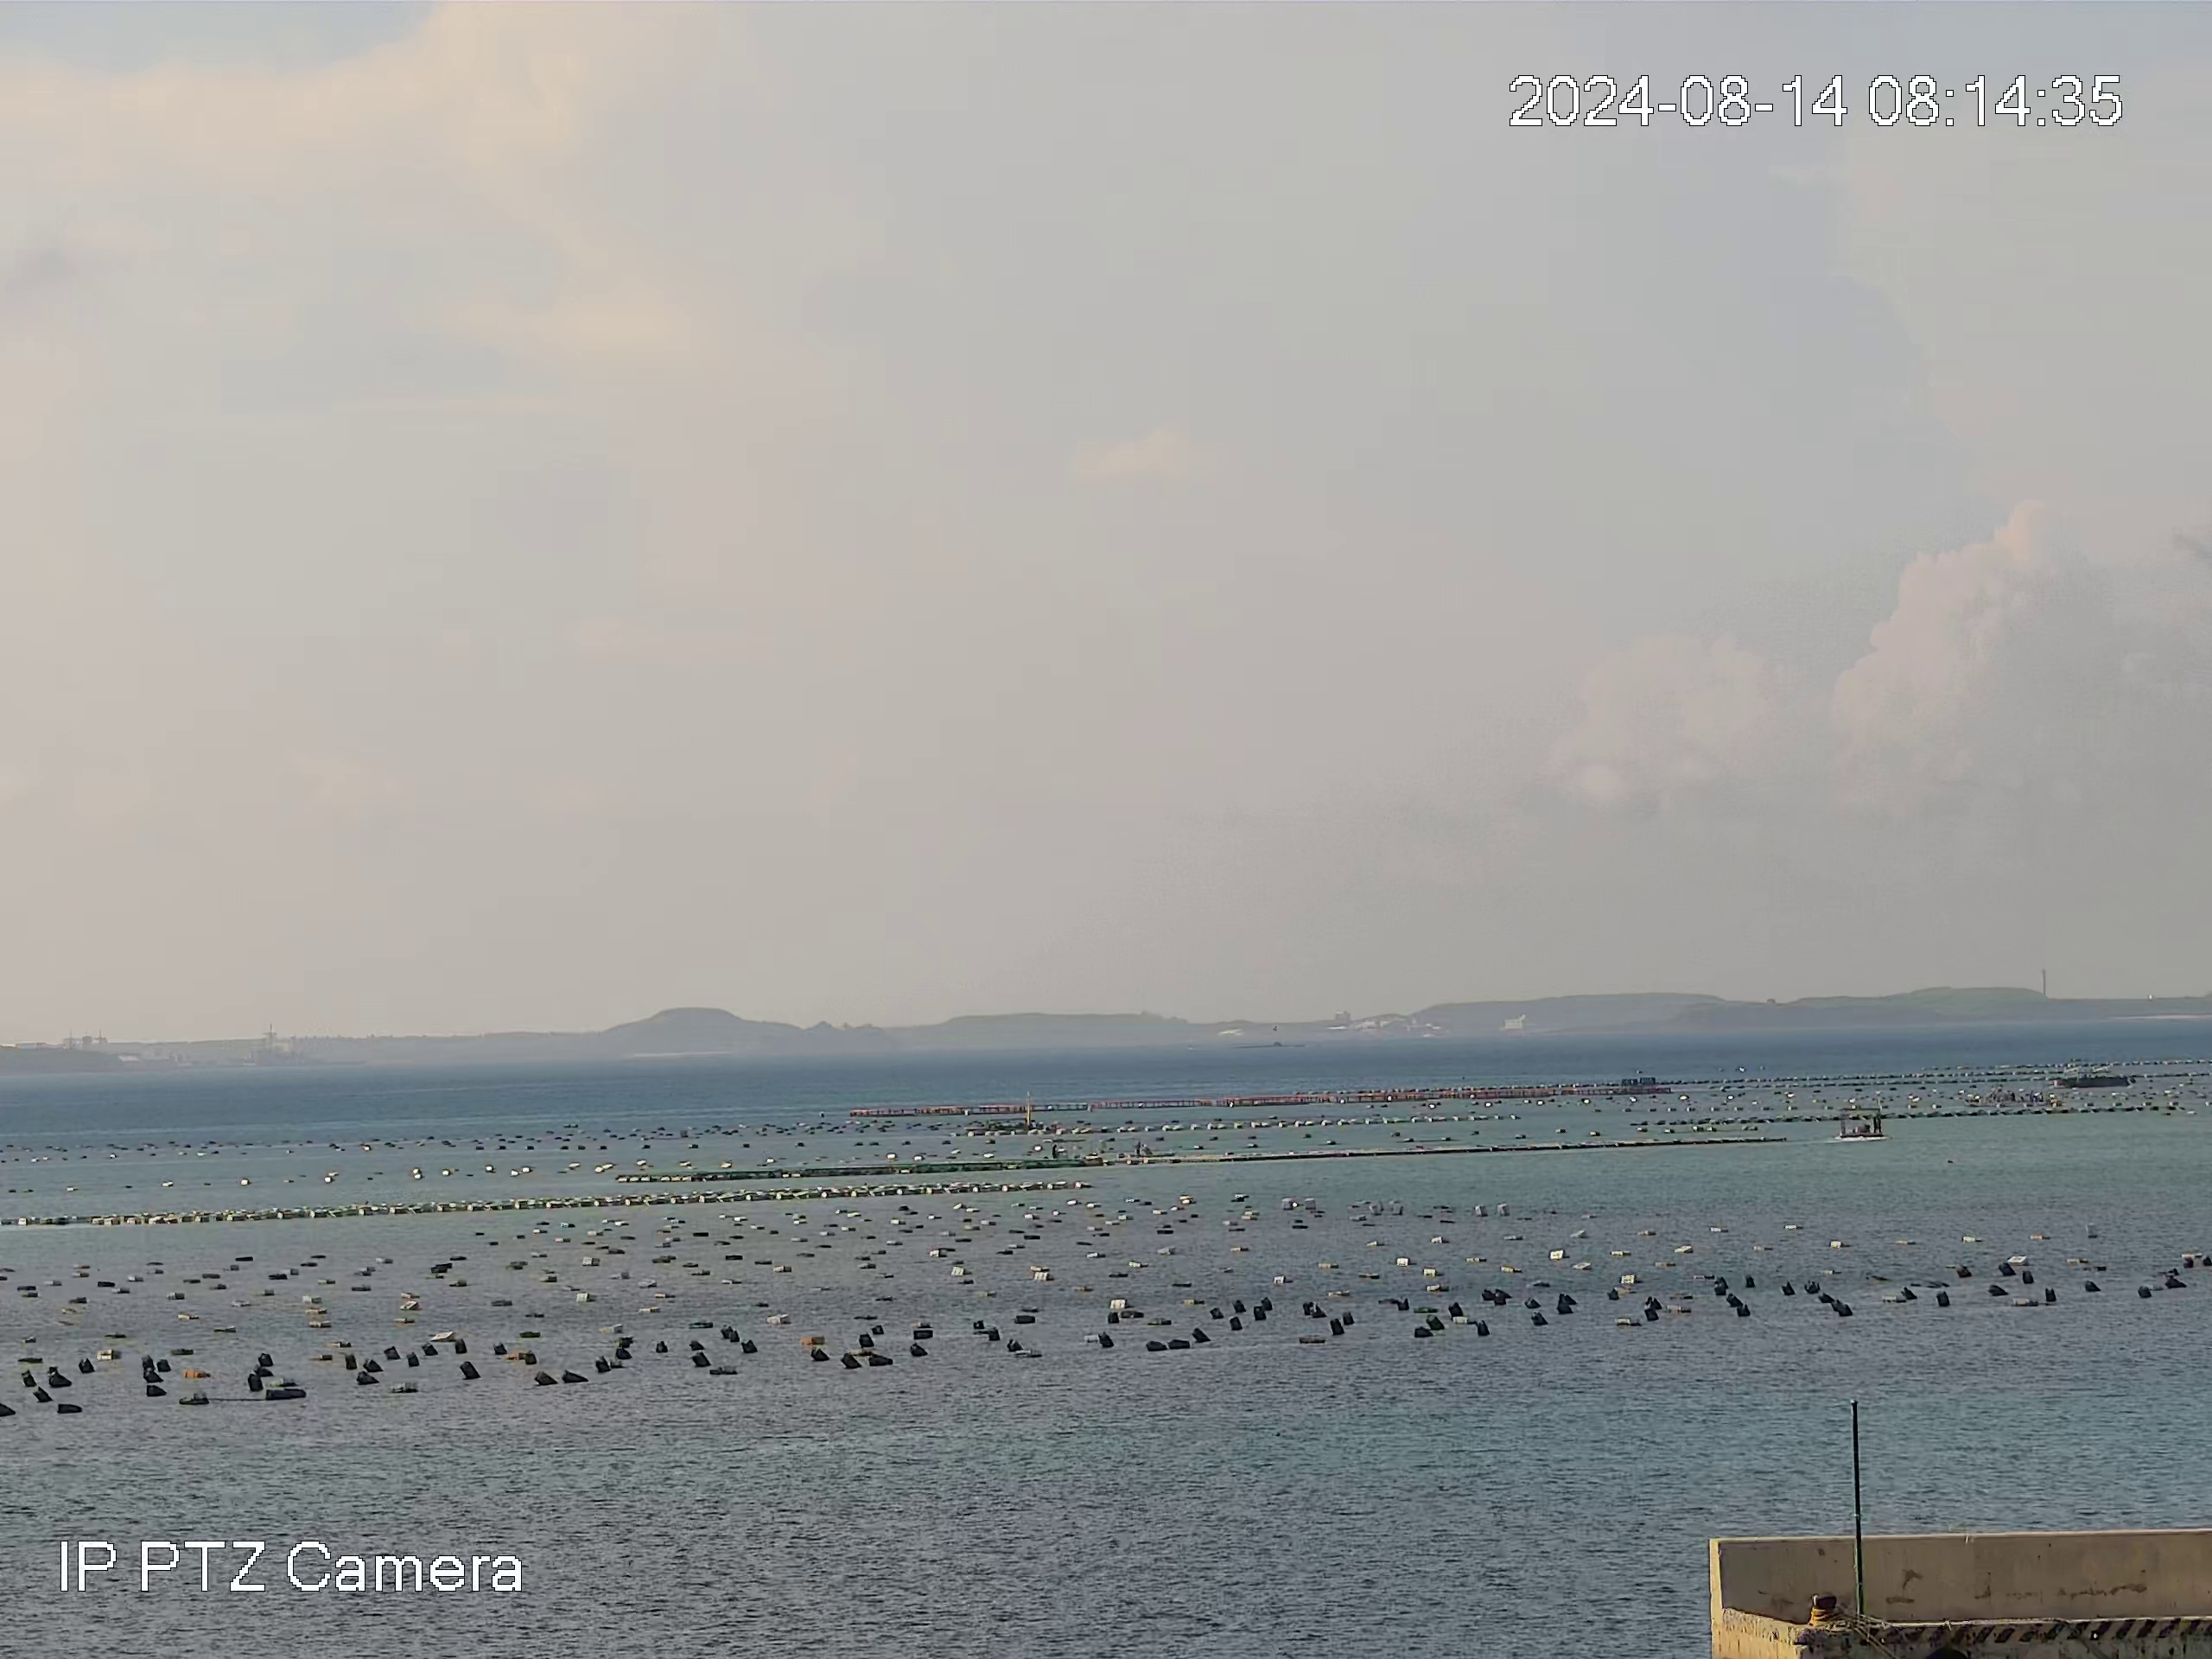boat: (1825, 1100, 1895, 1145), (2048, 1063, 2139, 1093), (1963, 1087, 2060, 1108)
